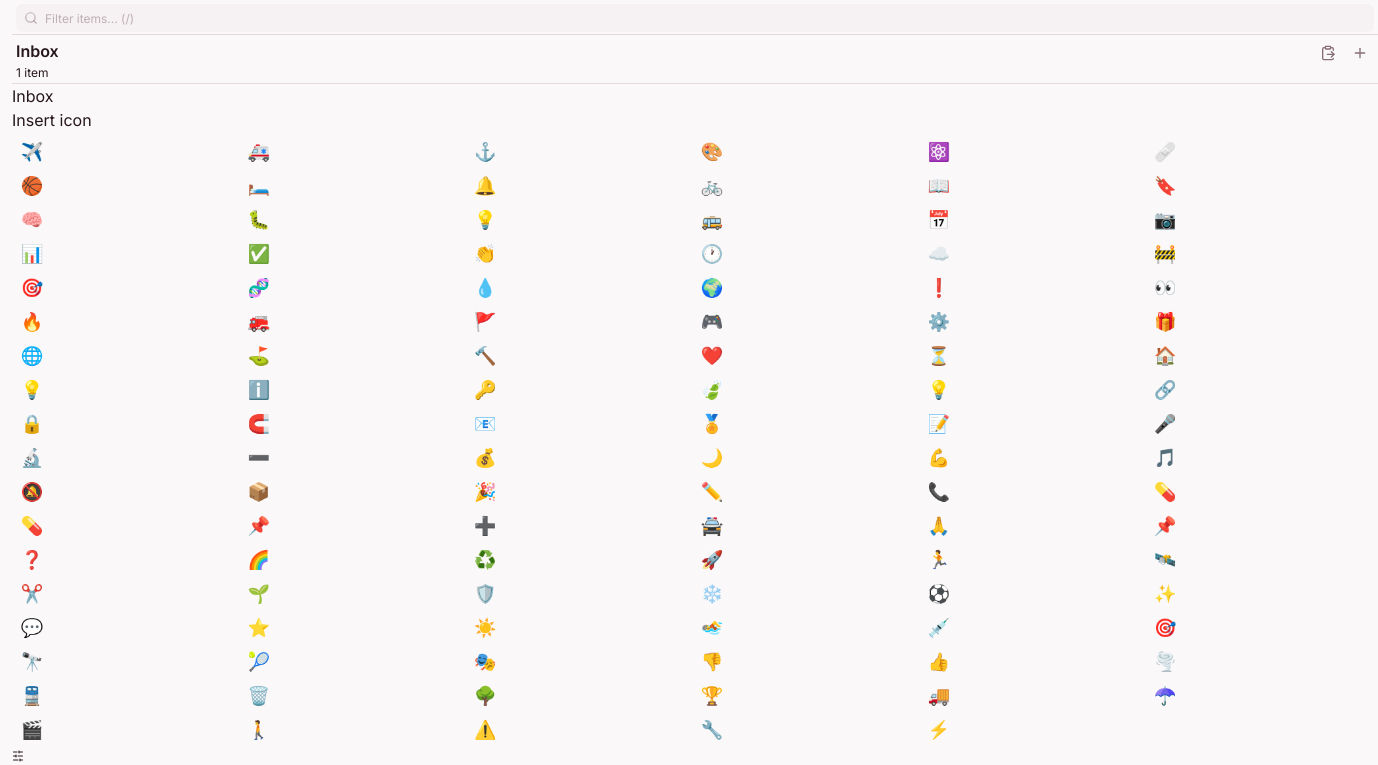
it: the search box › says where an item matched when it was not its name
Type "roadmap" into the dropdown with placeholder "Filter items... (/)" at {"x": 695, "y": 18}, box [16,4,1374,32]
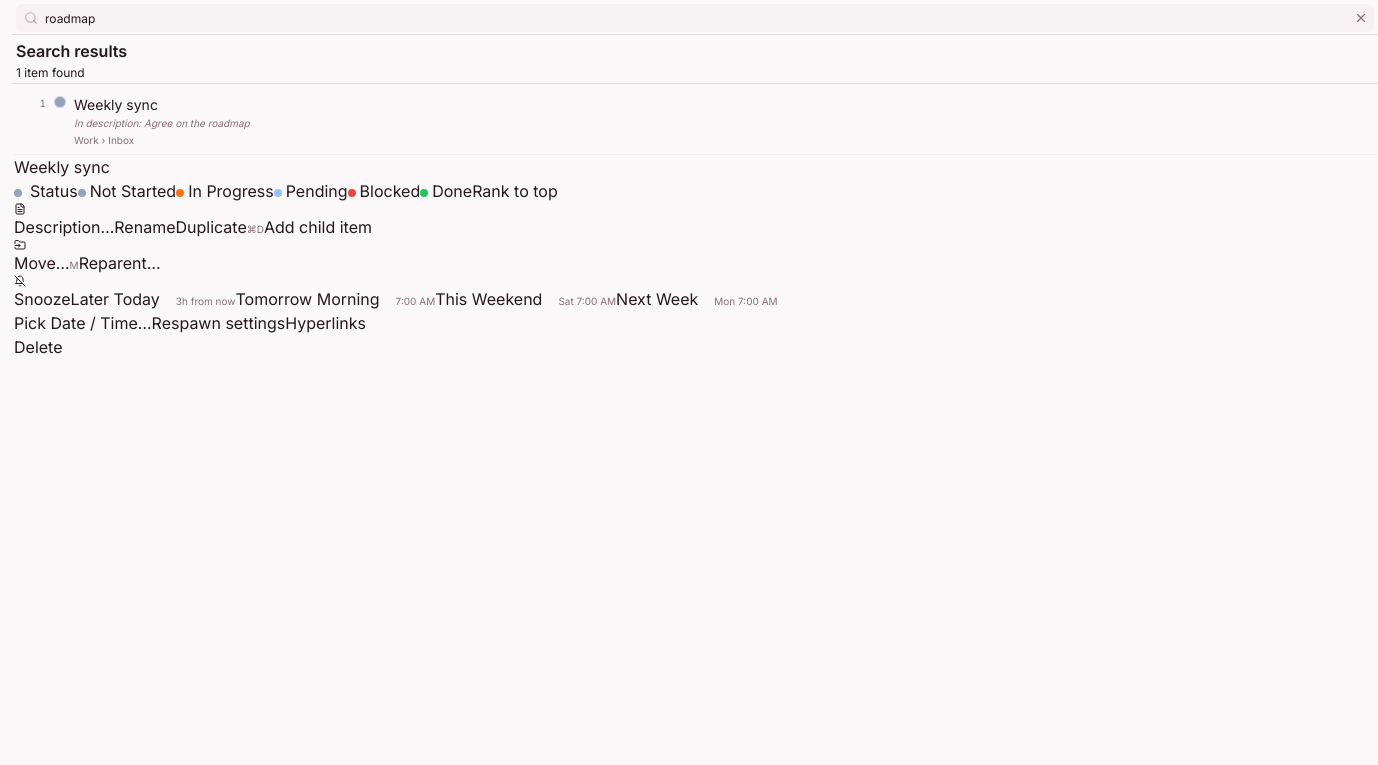
Result: the text "In description: Agree on the roadmap" is shown at [74,117,250,129]
